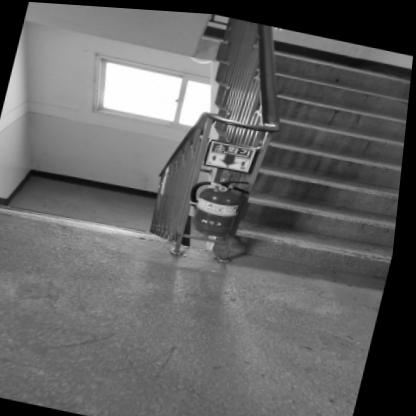FE: (185, 166, 253, 236)
